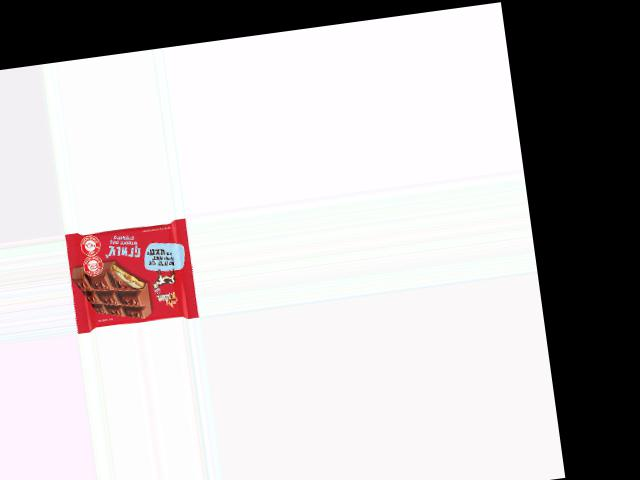chocolate: (66, 217, 194, 332)
